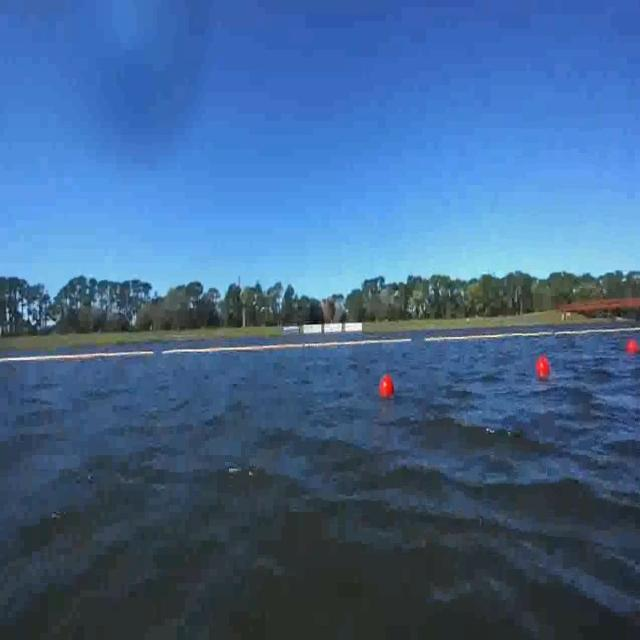red-buoy: (378, 372, 392, 397), (536, 356, 550, 380), (626, 340, 639, 357)
